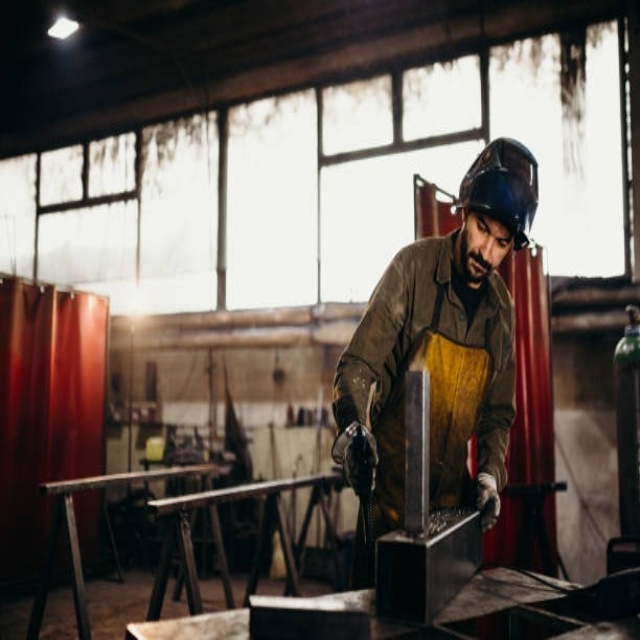Guantes: (337, 423, 378, 496), (472, 472, 501, 534)
Sin_gafas: (468, 213, 512, 257)
Sin_mascara: (465, 246, 492, 284)
